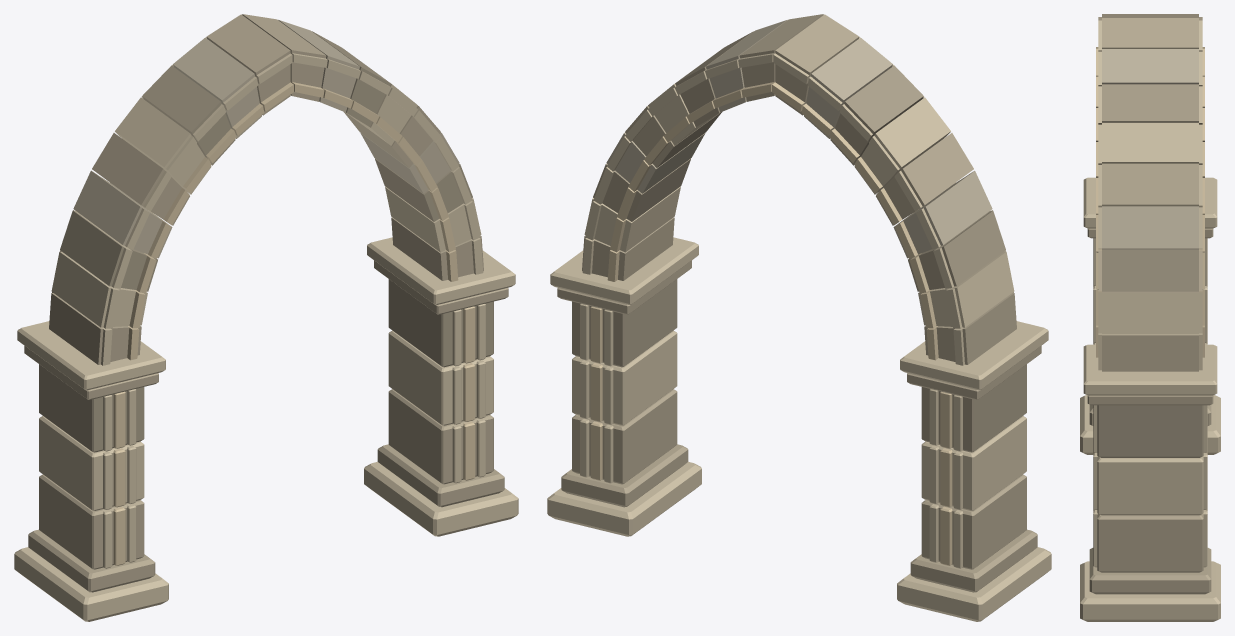
File: Arch_Entry_4m.fbx
3 views of the same model, side by side, from view 1: azimuth 30°, elevation 25°; view 2: azimuth 150°, elevation 25°; view 3: azimuth 270°, elevation 25° (orthographic). The views are drawn at different scales.
Parts seen in each view (by area): view 1: Arch_Entry_4m; view 2: Arch_Entry_4m; view 3: Arch_Entry_4m.
Part boxes in pixels (bbox=[...]): Arch_Entry_4m: bbox=[14, 14, 518, 621]; Arch_Entry_4m: bbox=[547, 14, 1051, 621]; Arch_Entry_4m: bbox=[1080, 14, 1220, 621].
Bounding box in the file's own units: 3.56 × 4.02 × 1.02.
